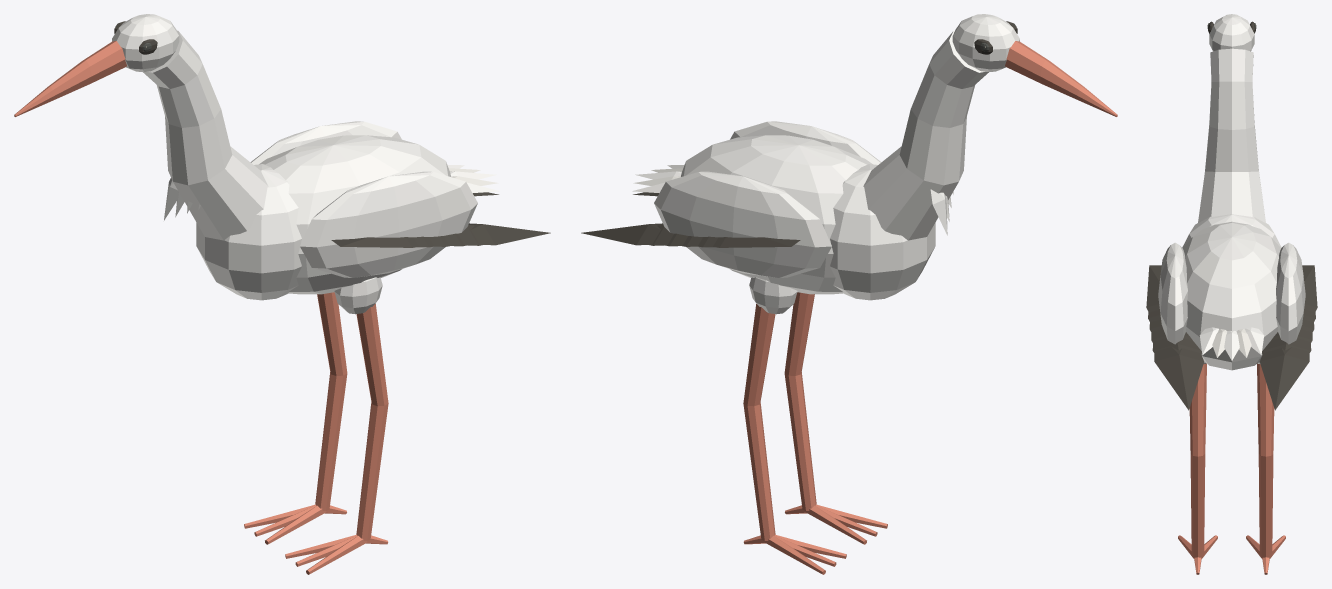
File: stork.glb
The picture shows the model from 3 angles, left to right: view 1: azimuth 30°, elevation 25°; view 2: azimuth 150°, elevation 25°; view 3: azimuth 270°, elevation 25°; orthographic projection. The views are drawn at different scales.
Parts seen in each view (by area): view 1: body_white, neck_white, Folded_Wing_L, Leg_L, Leg_R, wingL_black, Head, Red_Bill, Folded_Wing_R, footL_red, footR_red, Thigh_L; view 2: body_white, neck_white, Folded_Wing_R, Leg_R, Leg_L, wingR_black, Head, Red_Bill, Folded_Wing_L, footR_red, footL_red, Thigh_R; view 3: body_white, neck_white, wingL_black, wingR_black, Leg_L, Leg_R, Folded_Wing_L, Folded_Wing_R, Head, tail_white, tail_shade, footL_red (+1 smaller).
Boxes of the visible parts, bbox=[...] form: body_white: bbox=[196, 135, 450, 300]; neck_white: bbox=[143, 30, 268, 240]; Folded_Wing_L: bbox=[300, 171, 477, 277]; Leg_L: bbox=[356, 304, 388, 540]; Leg_R: bbox=[315, 292, 347, 510]; wingL_black: bbox=[331, 223, 550, 247]; Head: bbox=[112, 14, 179, 71]; Red_Bill: bbox=[14, 41, 126, 116]; Folded_Wing_R: bbox=[250, 121, 401, 164]; footL_red: bbox=[285, 534, 388, 574]; footR_red: bbox=[244, 504, 346, 544]; Thigh_L: bbox=[334, 277, 382, 314]; body_white: bbox=[681, 135, 935, 300]; neck_white: bbox=[863, 30, 988, 240]; Folded_Wing_R: bbox=[654, 171, 831, 277]; Leg_R: bbox=[743, 304, 775, 540]; Leg_L: bbox=[784, 292, 816, 510]; wingR_black: bbox=[581, 223, 800, 247]; Head: bbox=[952, 14, 1019, 71]; Red_Bill: bbox=[1005, 41, 1117, 116]; Folded_Wing_L: bbox=[730, 121, 881, 164]; footR_red: bbox=[743, 534, 846, 574]; footL_red: bbox=[785, 504, 887, 544]; Thigh_R: bbox=[749, 277, 797, 314]; body_white: bbox=[1182, 214, 1281, 370]; neck_white: bbox=[1198, 48, 1265, 222]; wingL_black: bbox=[1146, 265, 1204, 410]; wingR_black: bbox=[1259, 265, 1317, 410]; Leg_L: bbox=[1189, 363, 1206, 558]; Leg_R: bbox=[1257, 363, 1274, 558]; Folded_Wing_L: bbox=[1158, 242, 1187, 344]; Folded_Wing_R: bbox=[1276, 242, 1305, 344]; Head: bbox=[1209, 14, 1254, 51]; tail_white: bbox=[1199, 327, 1264, 360]; tail_shade: bbox=[1212, 329, 1251, 357]; footL_red: bbox=[1178, 535, 1217, 574].
Size of the model in its own units: 0.43 by 0.456 by 0.1508.
